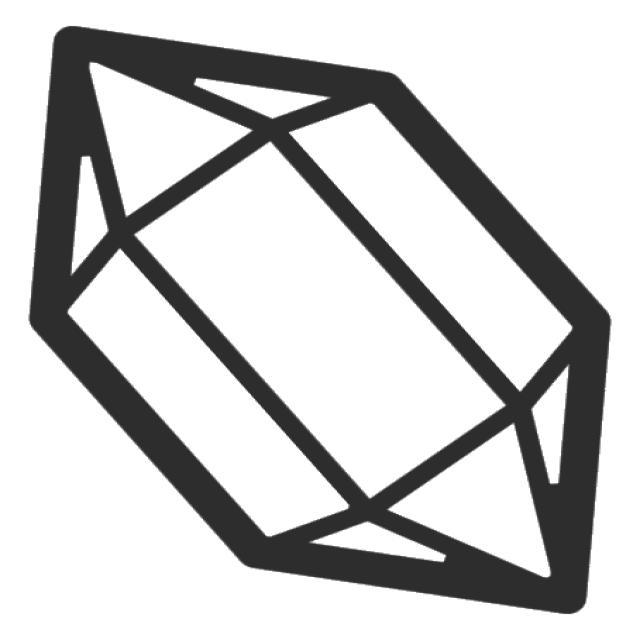crystal: (14, 11, 626, 625)
